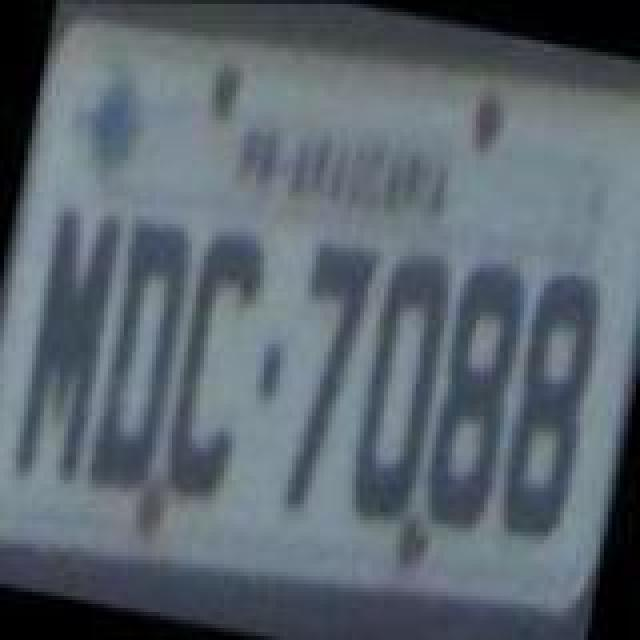7: (266, 228, 382, 520)
8: (410, 248, 538, 536), (486, 256, 614, 544)
C: (154, 220, 278, 508)
D: (78, 204, 202, 500)
M: (6, 190, 130, 490)
O: (334, 238, 462, 538)
